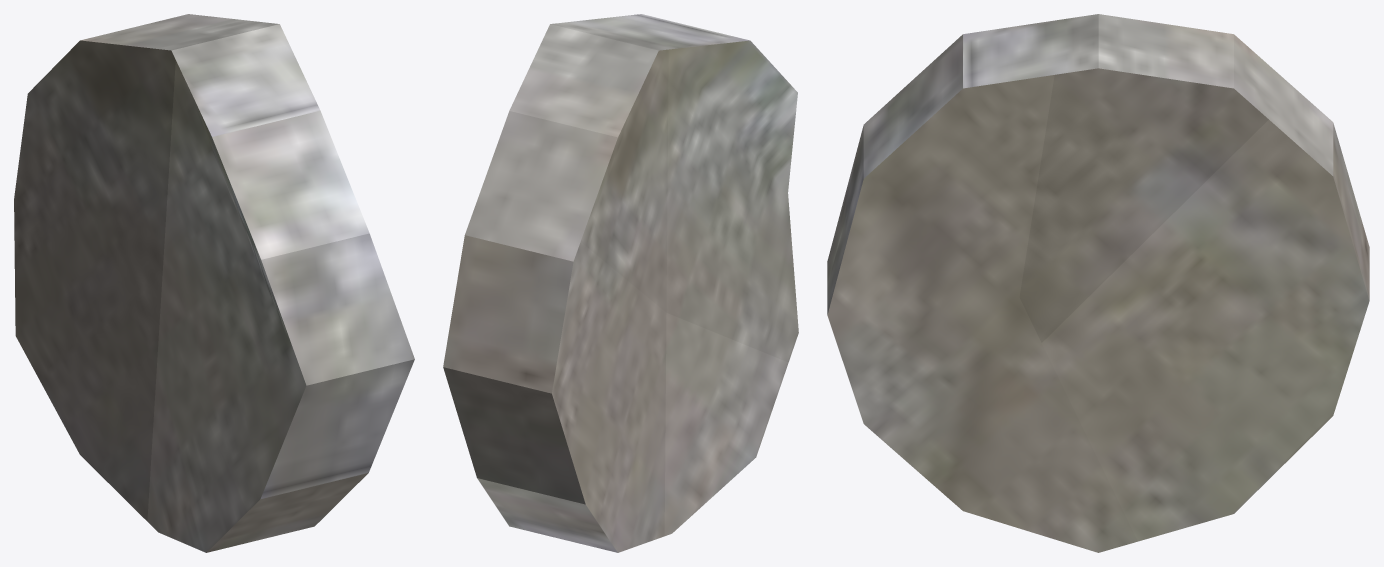
File: Iceman_split.glb
3 views of the same model, side by side, from view 1: azimuth 30°, elevation 25°; view 2: azimuth 150°, elevation 25°; view 3: azimuth 270°, elevation 25° (orthographic). The views are drawn at different scales.
Parts seen in each view (by area): view 1: Part1, Part4, Part2, Part3; view 2: Part4, Part1, Part2, Part3; view 3: Part4, Part1, Part2, Part3.
Part boxes in pixels (box(x1,y1,x2,y2)): Part1: box(160, 52, 414, 512); Part4: box(14, 85, 160, 520); Part2: box(36, 14, 292, 308); Part3: box(147, 310, 333, 552); Part4: box(443, 155, 666, 552); Part1: box(580, 14, 798, 362); Part2: box(493, 21, 668, 312); Part3: box(664, 313, 788, 535); Part4: box(1042, 108, 1369, 541); Part1: box(827, 16, 1083, 478); Part2: box(1019, 14, 1316, 342); Part3: box(927, 343, 1137, 552).
Size of the model in its own units: 0.6691 by 2 by 2.
Materials: 1 (1 with a texture image).
